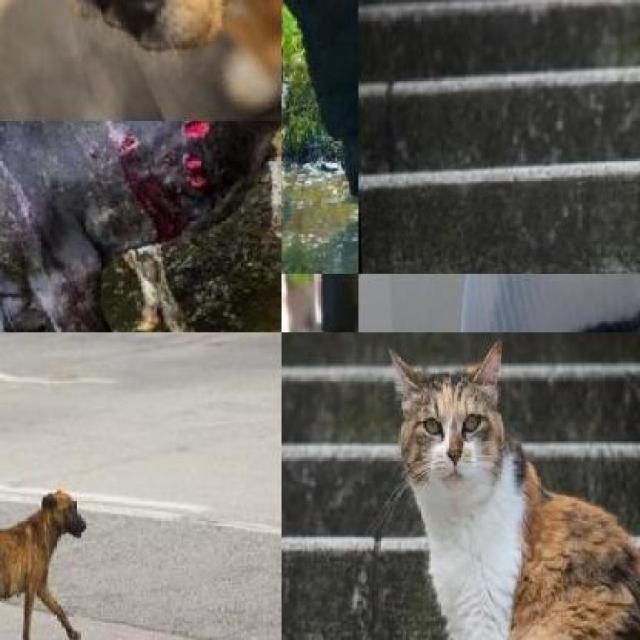buffalo: (282, 0, 358, 234)
cat: (377, 361, 640, 640)
cow: (0, 120, 282, 332)
dog: (0, 0, 282, 120), (0, 477, 98, 640)
injured: (126, 132, 192, 185)
